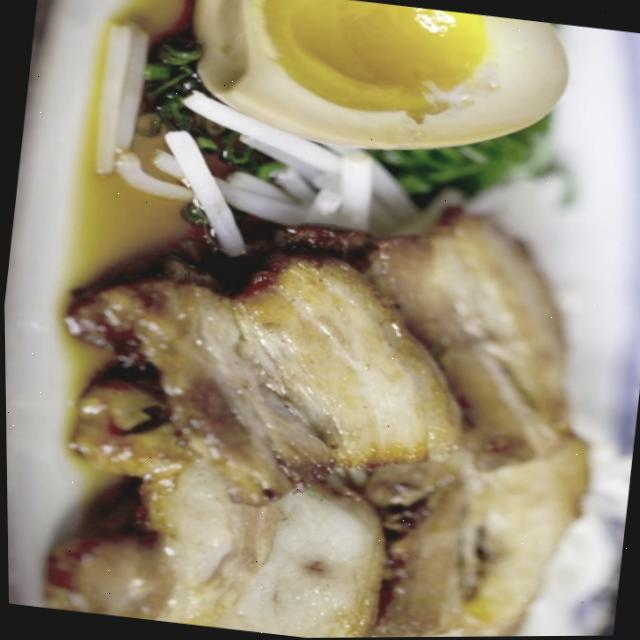牛肉菜式: (18, 144, 618, 640)
